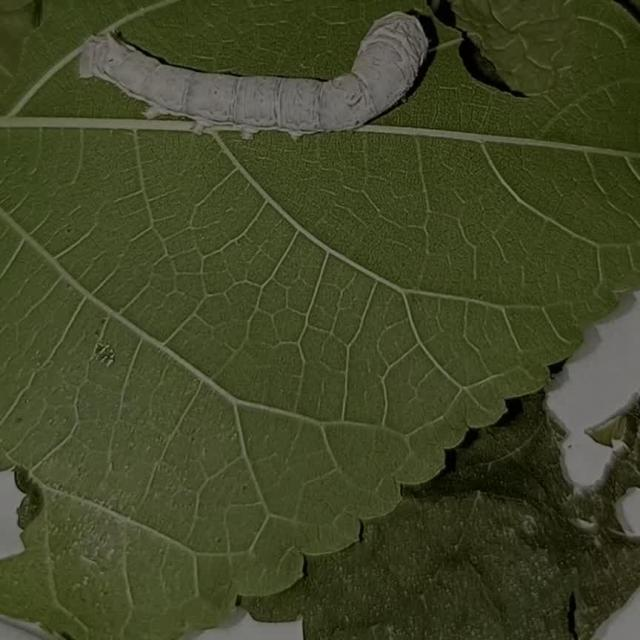Healthy: (40, 0, 470, 150)
